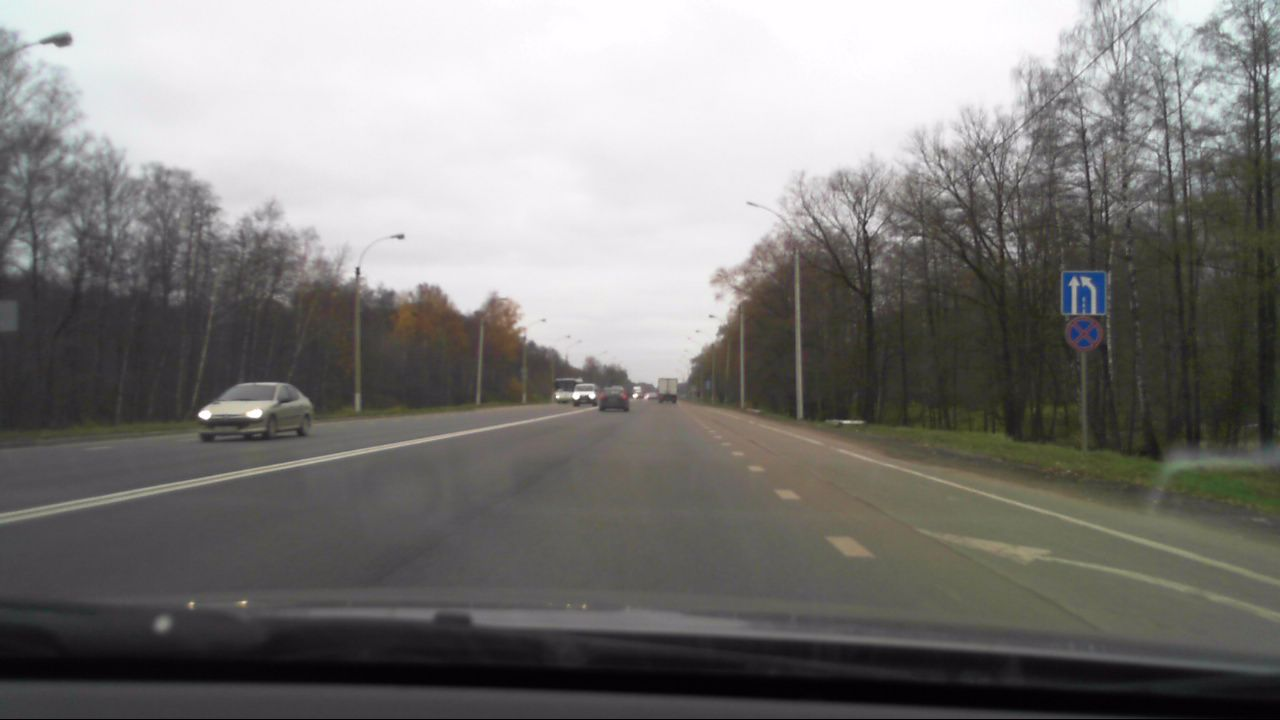No Parking: (1065, 316, 1106, 352)
